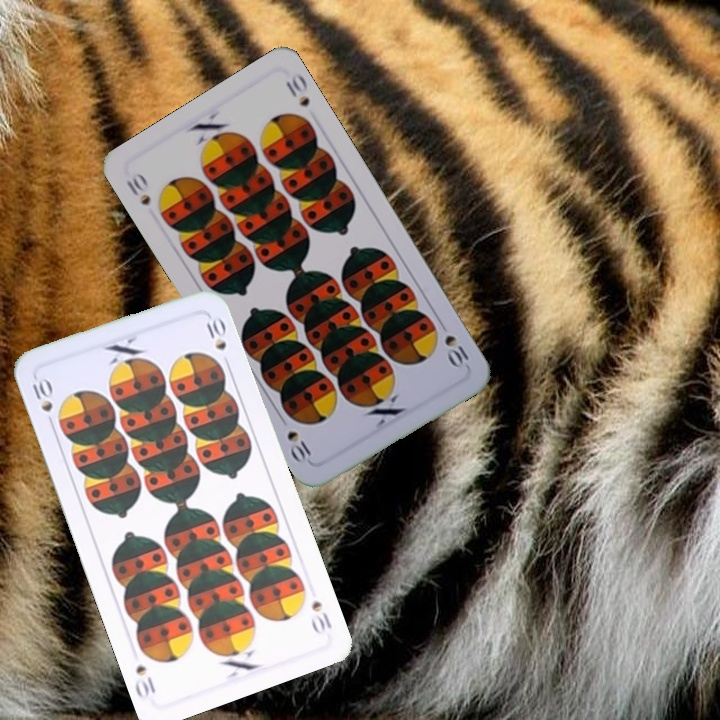S10: (434, 316, 474, 372), (25, 373, 57, 431), (122, 168, 154, 209), (307, 596, 334, 637)
